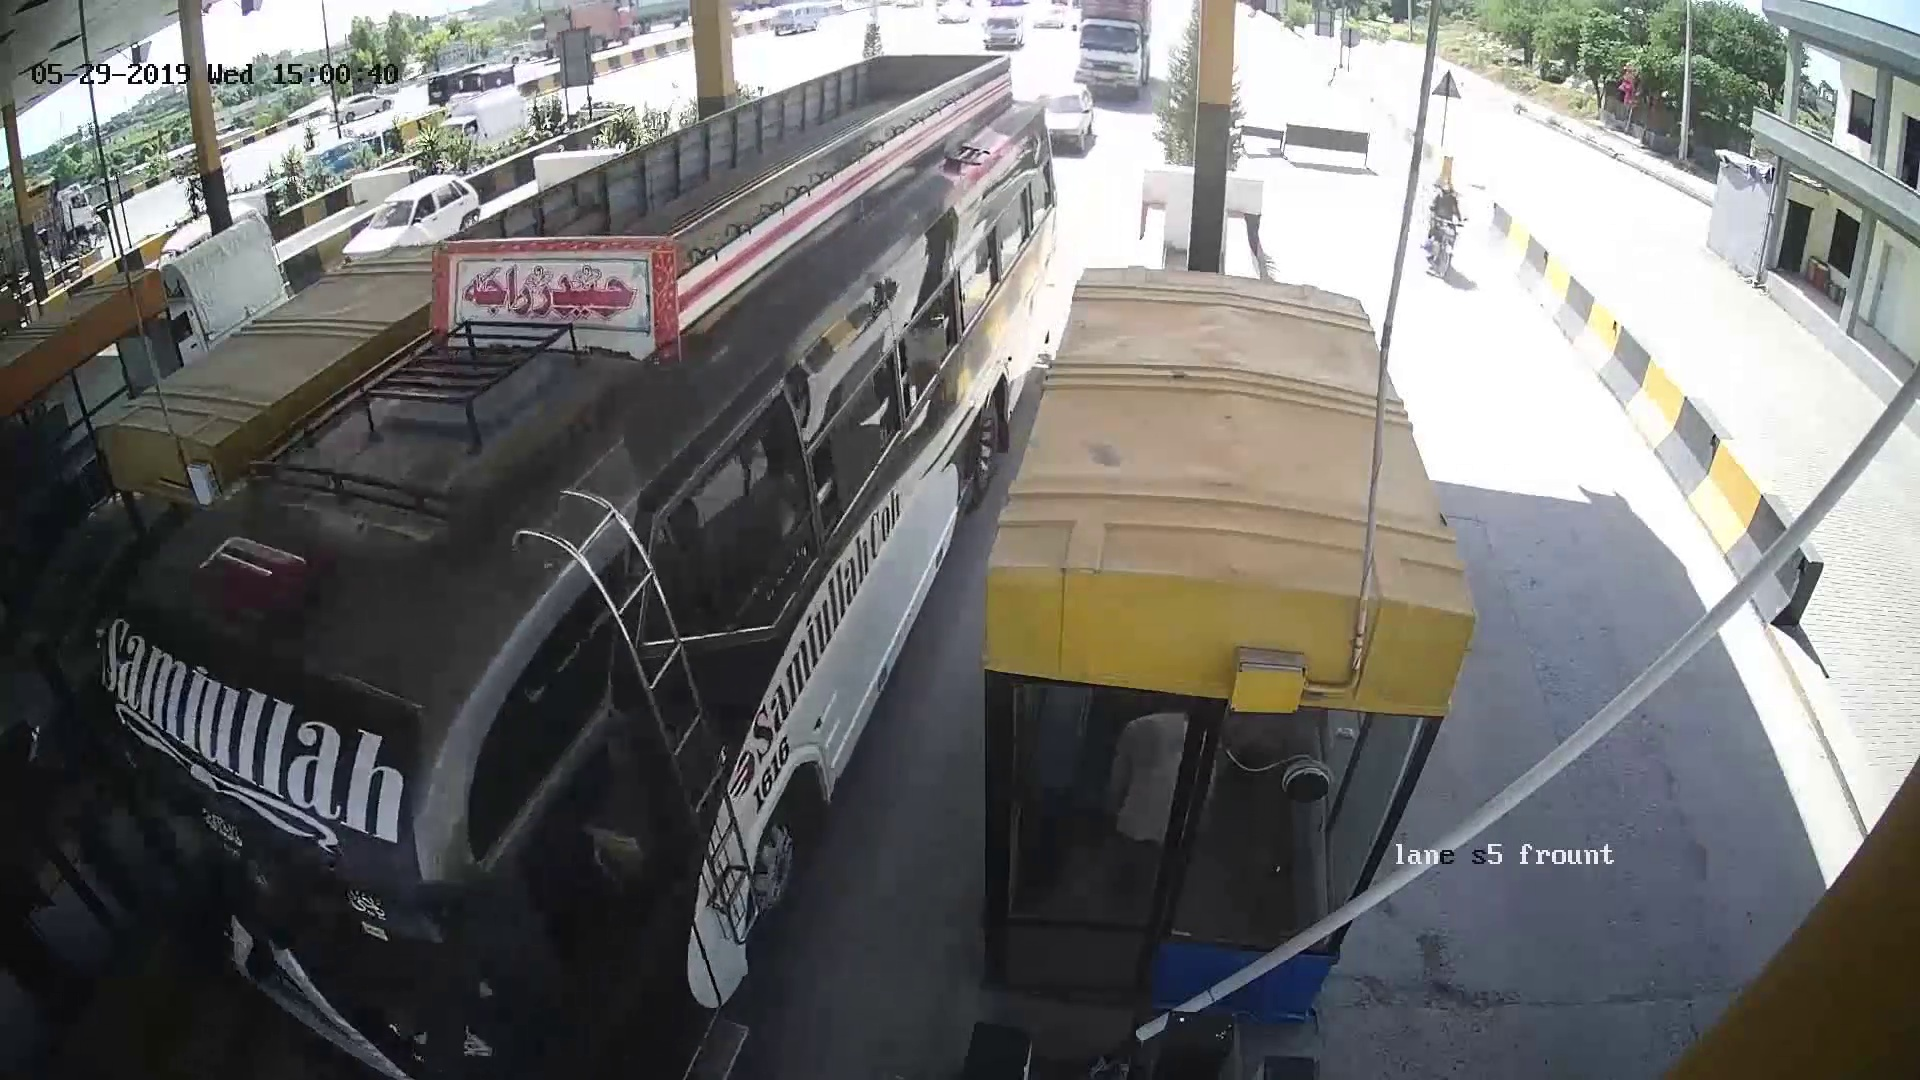bus: (367, 135, 1077, 996)
